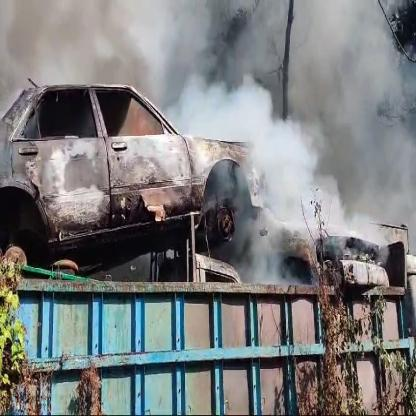Smoke: (0, 0, 416, 275)
